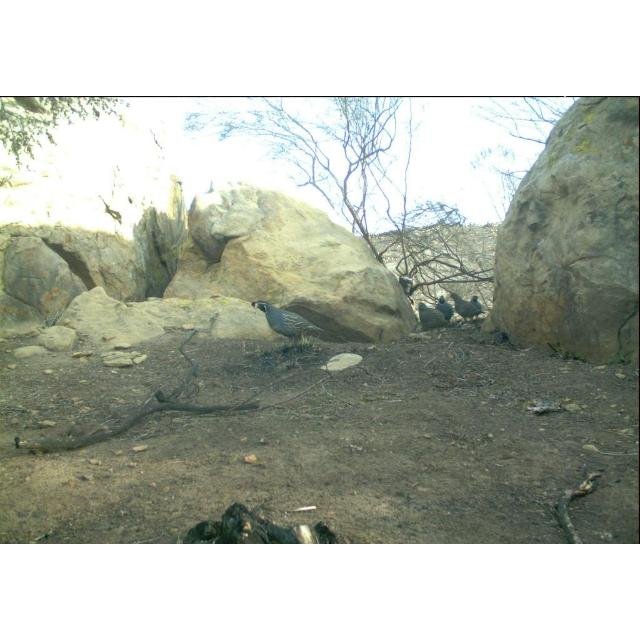animals: (251, 298, 327, 352), (416, 294, 446, 332), (451, 292, 481, 324), (434, 292, 456, 326), (467, 290, 485, 324)
